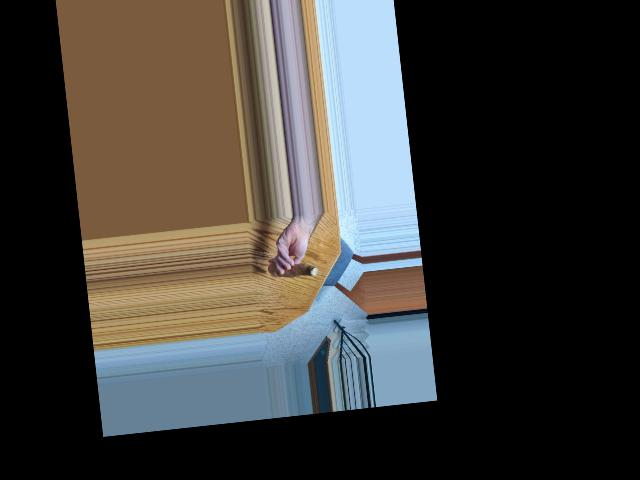sweet_potato: (267, 259, 322, 280)
